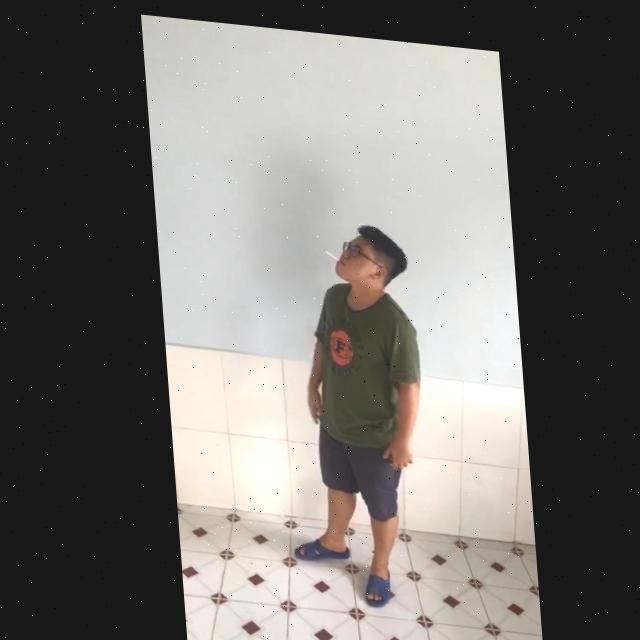cigarette: (320, 243, 336, 254)
